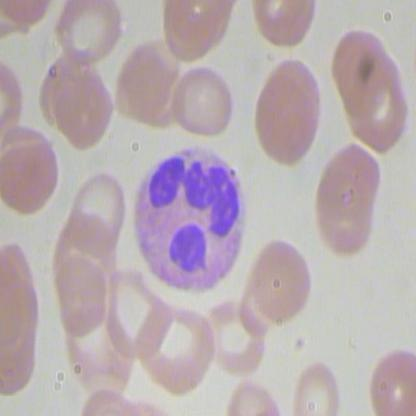RBC: (314, 135, 382, 263), (250, 57, 326, 166), (132, 303, 217, 395), (90, 263, 172, 358), (329, 18, 394, 114), (1, 123, 65, 219), (247, 233, 312, 322), (170, 63, 239, 136), (52, 1, 125, 70), (65, 172, 134, 244), (207, 293, 264, 375), (368, 340, 415, 415), (291, 355, 339, 415)
WBC: (122, 143, 252, 295)
